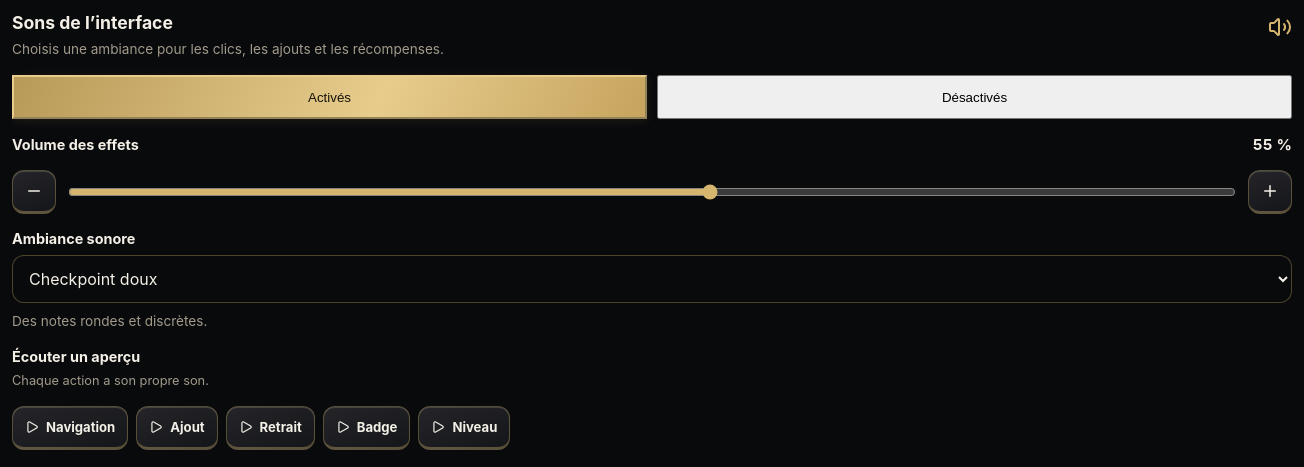
Test: mute is explicit and zero volume disables previews
Click the button "Désactivés" at [974, 97], box [657, 75, 1292, 119]
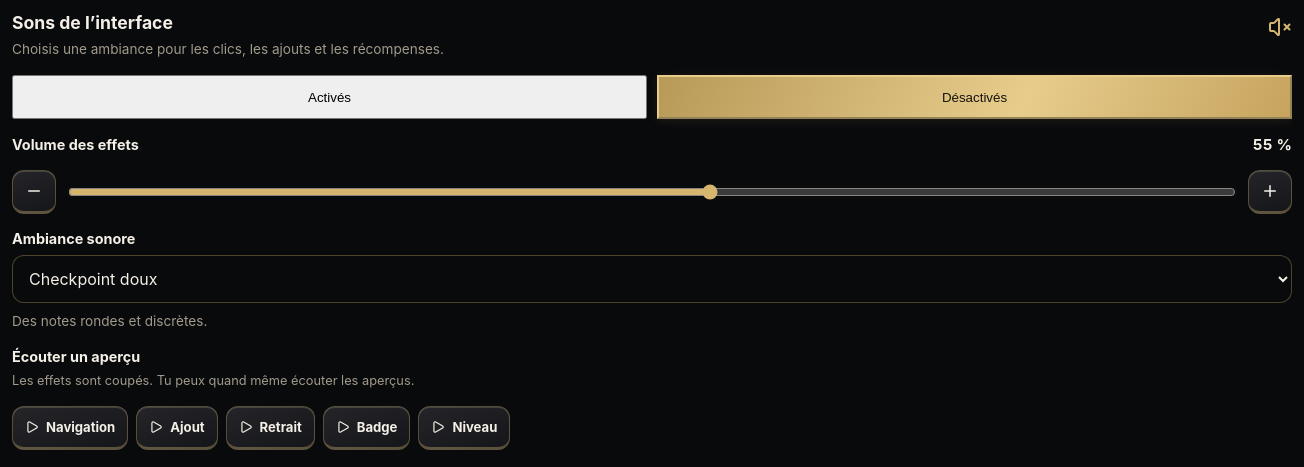
Set the slider labelled "Volume des effets" to "0" at [76, 192], box [68, 176, 1236, 208]
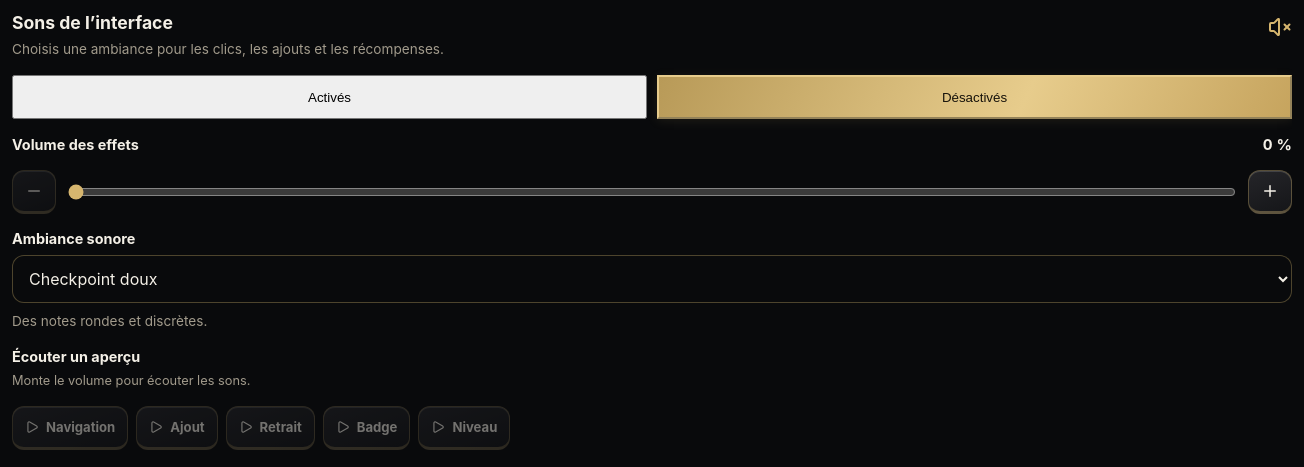
Check: the button with aria-label "Écouter : Ajout" is disabled, box [136, 406, 218, 450]
Check: the button named "Baisser le volume" is disabled, box [12, 170, 56, 214]
